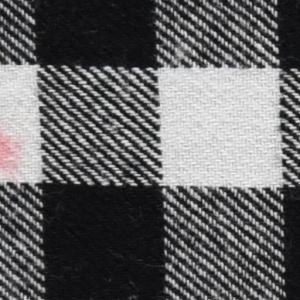Stain: (1, 126, 31, 187)
